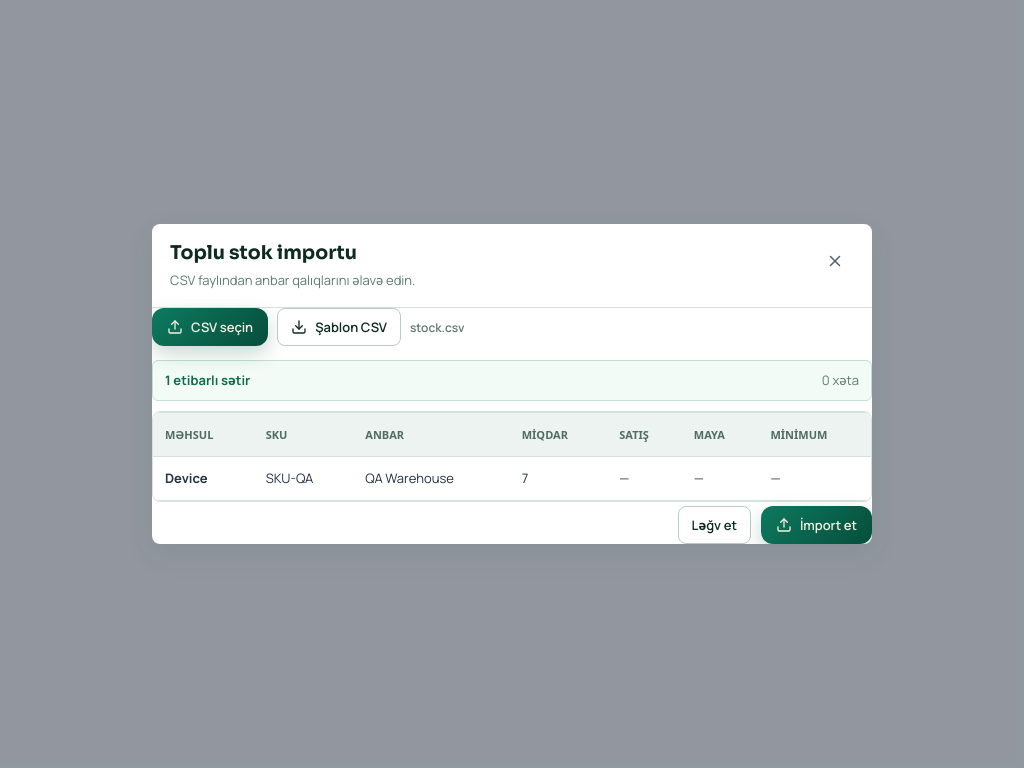
Scenario: disables changes while saving, preserves an uncertain request and gives changed data a new key
Earlier steps of the test are not shown.
Later steps or results of the test are not shown.
Click the button "İmport et" at (816, 525), box [761, 506, 872, 544]
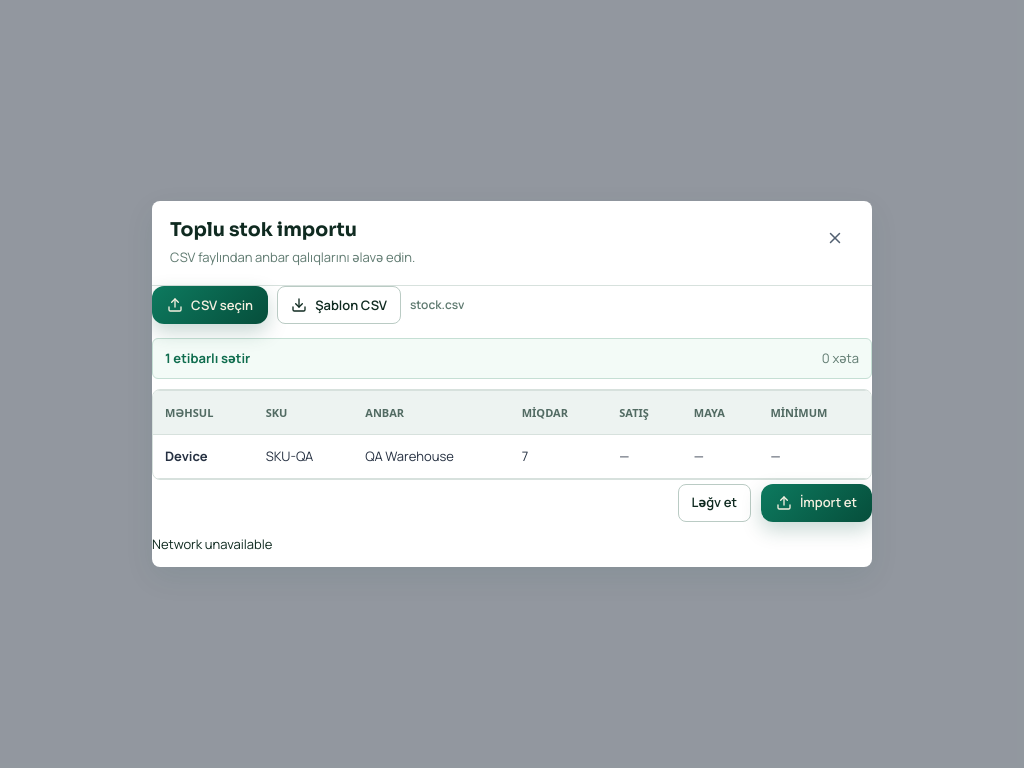
Check: the message reads "Network unavailable", box [152, 535, 272, 553]
